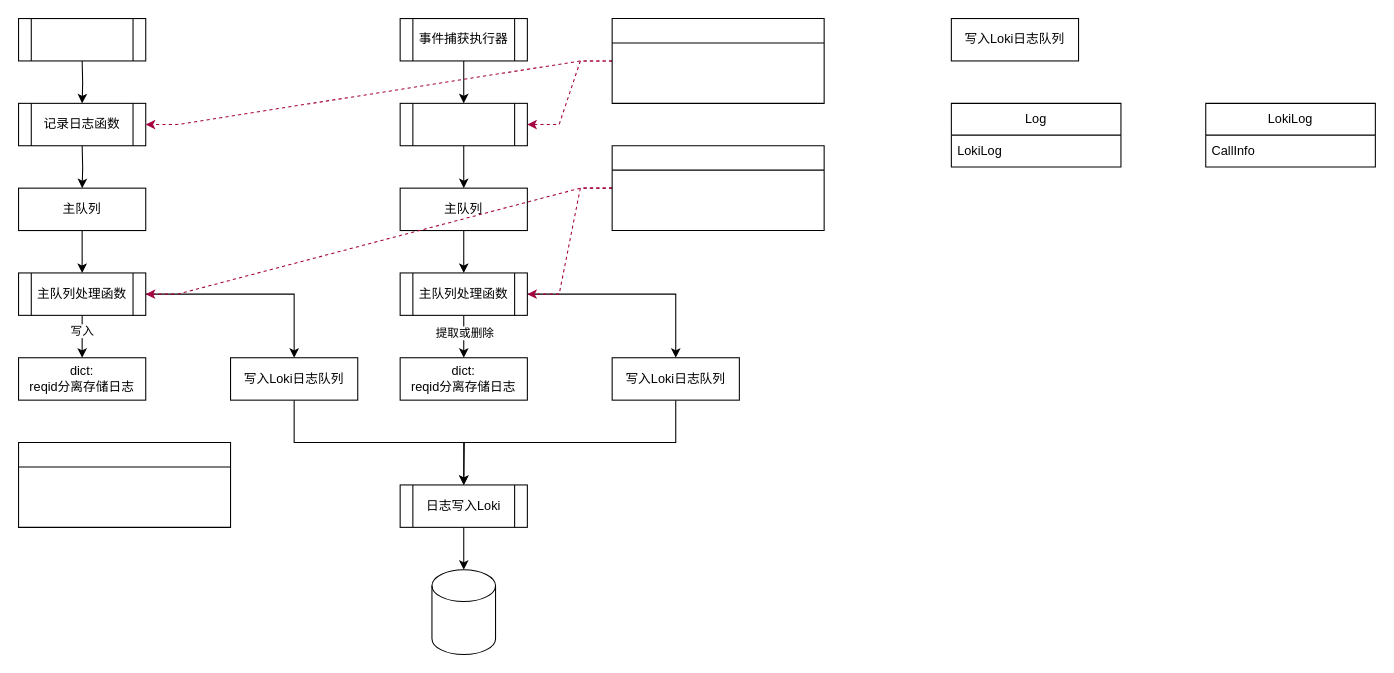
This 1394x673 diagram has some shape labels left out. The shapes that lost their labels are listed below. From the top down, each one's centre as x and y in pixels, then its label:
(x=81, y=39): 装饰器 log
(x=717, y=60): 主队列处理的标注对象
(x=463, y=124): 事件操作函数
(x=717, y=188): Loki日志对象
(x=124, y=484): Call对象
(x=463, y=612): Loki
